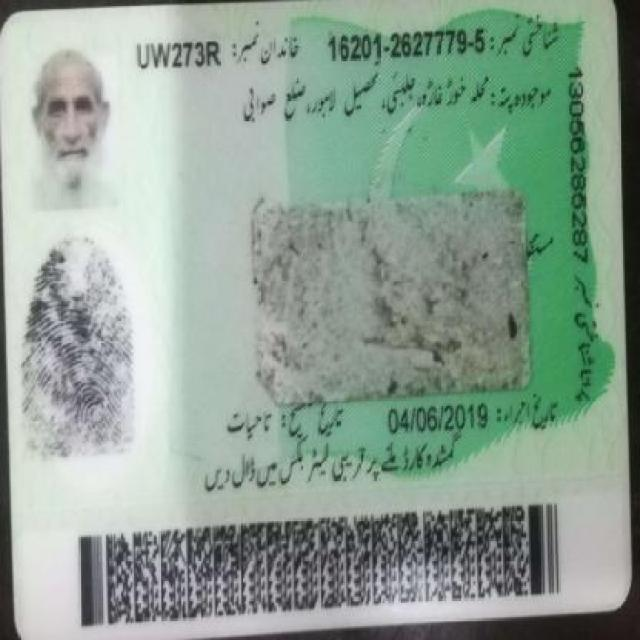Back: (9, 12, 618, 623)
